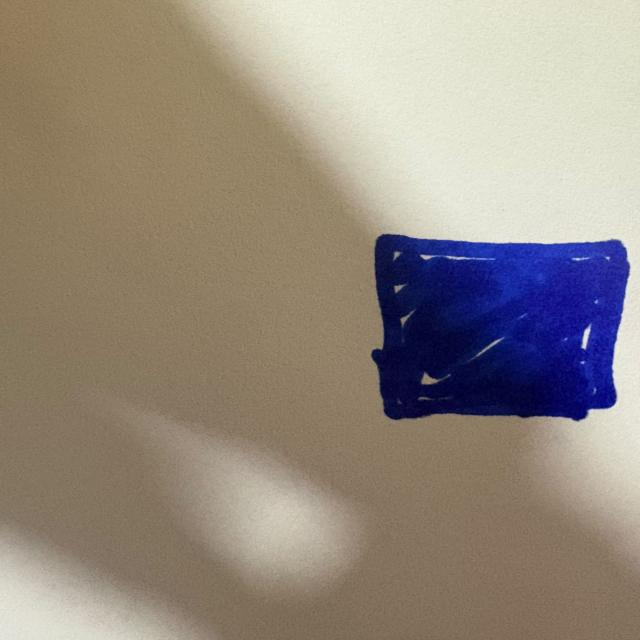Square: (367, 233, 631, 424)
